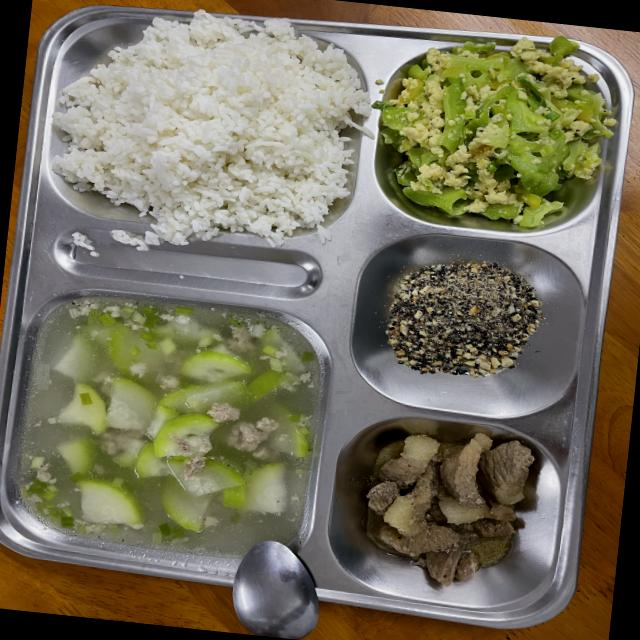canh bau: (19, 299, 320, 559)
com: (54, 10, 369, 245)
kho qua: (380, 38, 615, 228)
kho tieu: (366, 433, 533, 586)
